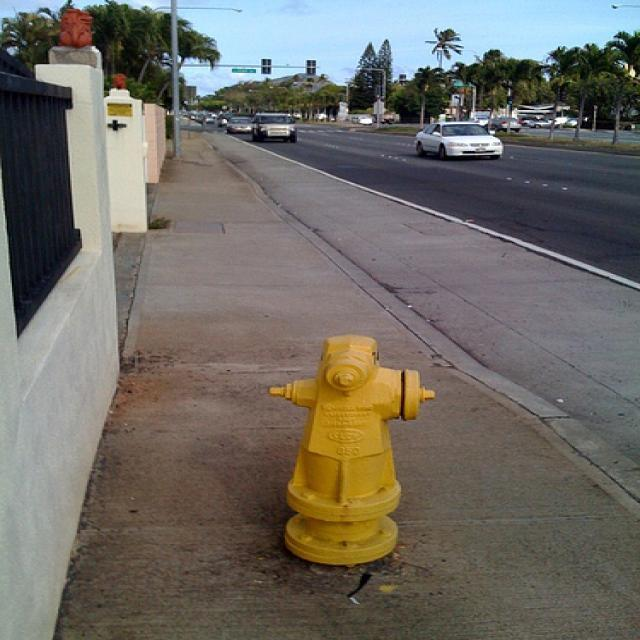fire_hydrant: (270, 330, 440, 564)
